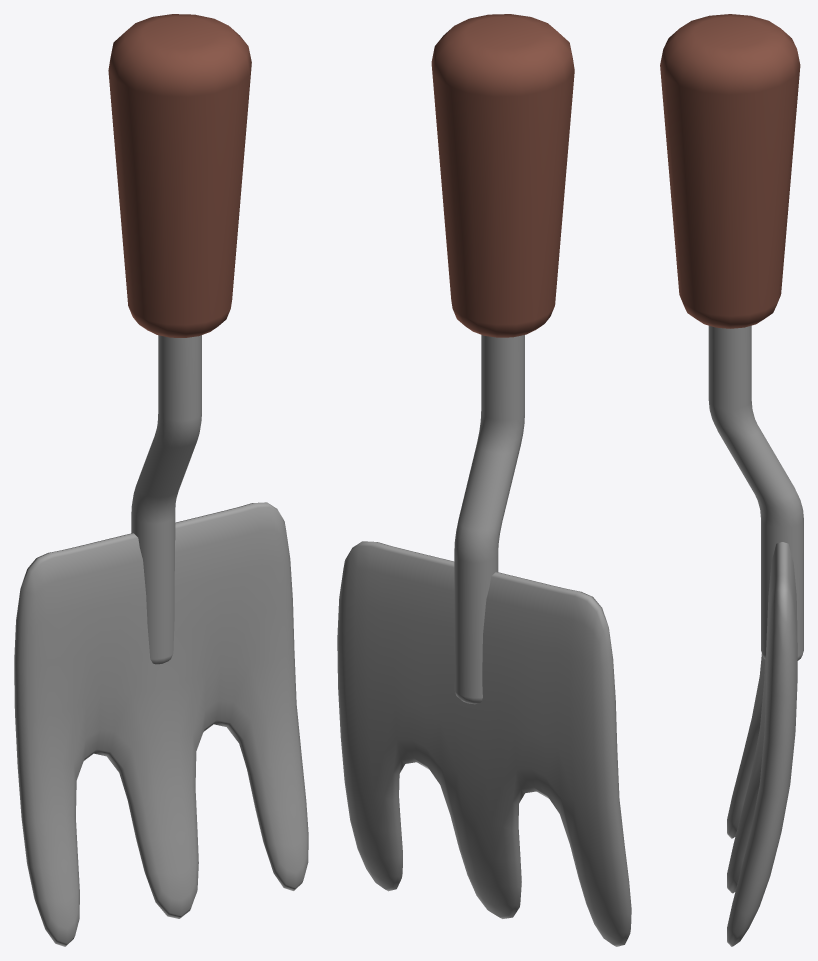
File: Farm_15_Pitchfork_1.glb
3 renders of one model, left to right at view 1: azimuth 30°, elevation 25°; view 2: azimuth 150°, elevation 25°; view 3: azimuth 270°, elevation 25°, orthographic. The views are drawn at different scales.
Visible parts, largest first — view 1: Farm_15_Pitchfork_1; view 2: Farm_15_Pitchfork_1; view 3: Farm_15_Pitchfork_1.
Boxes of the visible parts, x1,y1,x2,y2 form: Farm_15_Pitchfork_1: (14,14,308,946); Farm_15_Pitchfork_1: (337,14,631,946); Farm_15_Pitchfork_1: (660,14,803,946).
Bounding box in the file's own units: 0.1929 × 0.5903 × 0.0895.
1 material, 1 textured.
